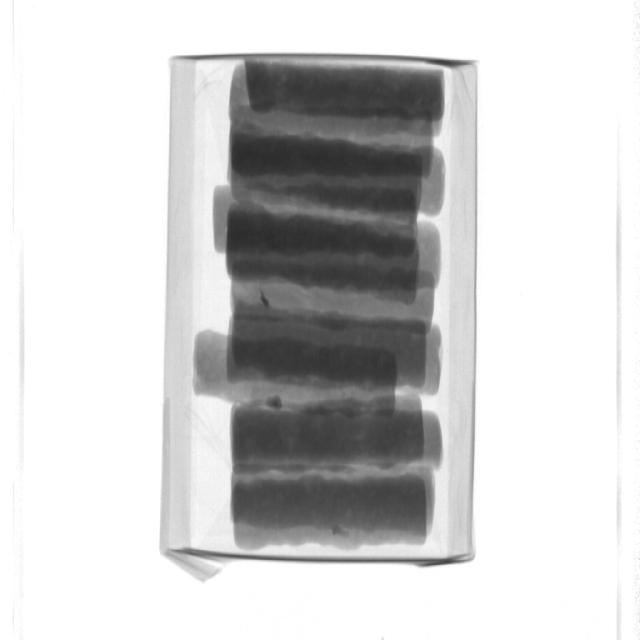ym: (267, 396, 284, 411), (335, 526, 353, 537), (263, 292, 274, 308)
